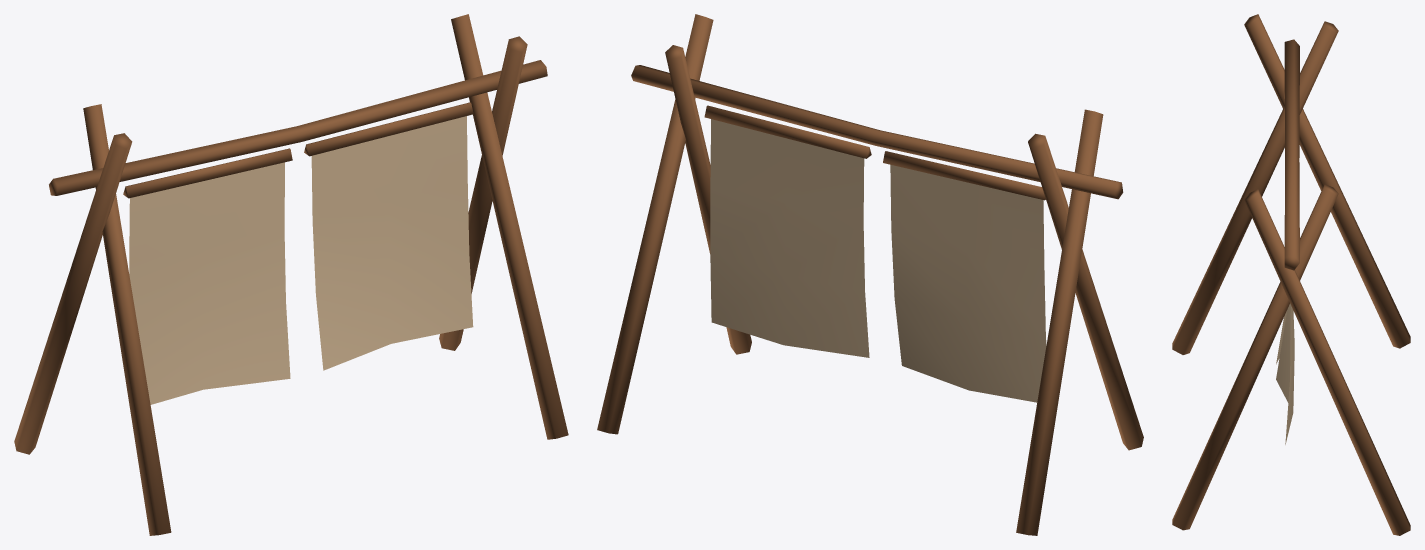
File: western_dryer.fbx
3 renders of one model, left to right at view 1: azimuth 30°, elevation 25°; view 2: azimuth 150°, elevation 25°; view 3: azimuth 270°, elevation 25°, orthographic. The views are drawn at different scales.
Parts seen in each view (by area): view 1: western_dryer; view 2: western_dryer; view 3: western_dryer.
Boxes of the visible parts, <box> form: western_dryer: <box>14,14,568,535</box>; western_dryer: <box>597,14,1143,535</box>; western_dryer: <box>1172,14,1410,535</box>.
Bounding box in the file's own units: 200 × 145 × 92.64.
